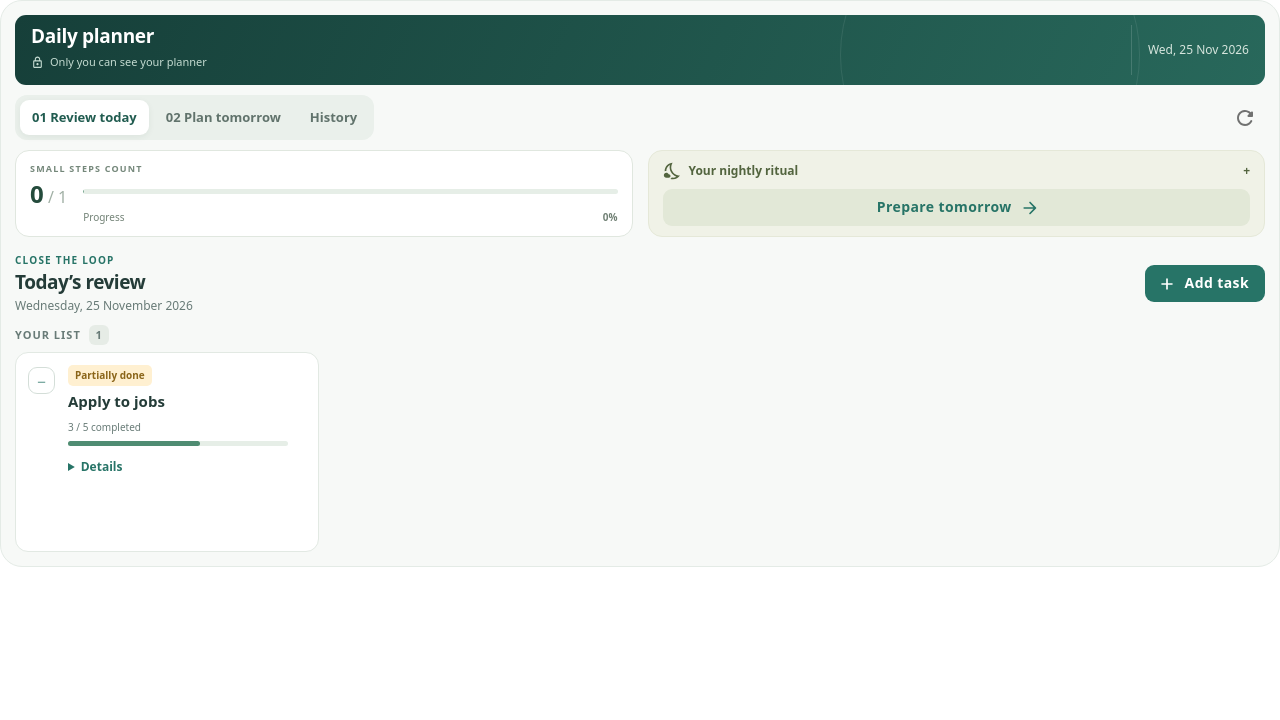
Test: history shows preserved remarks without review or removal actions
Click the button "History": (334, 118) x1=298 y1=100 x2=369 y2=135
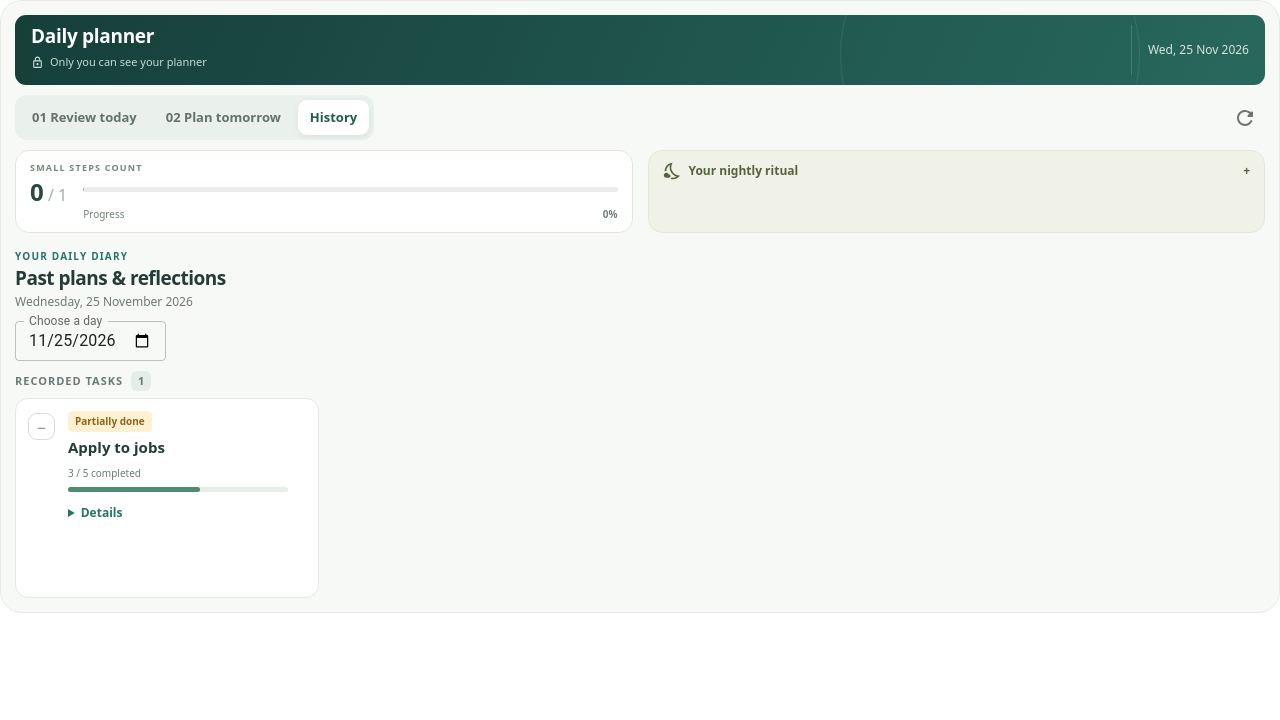
Check: the heading "Past plans & reflections" is shown, box x1=15 y1=267 x2=226 y2=290
Check: the button "Add task" is gone
